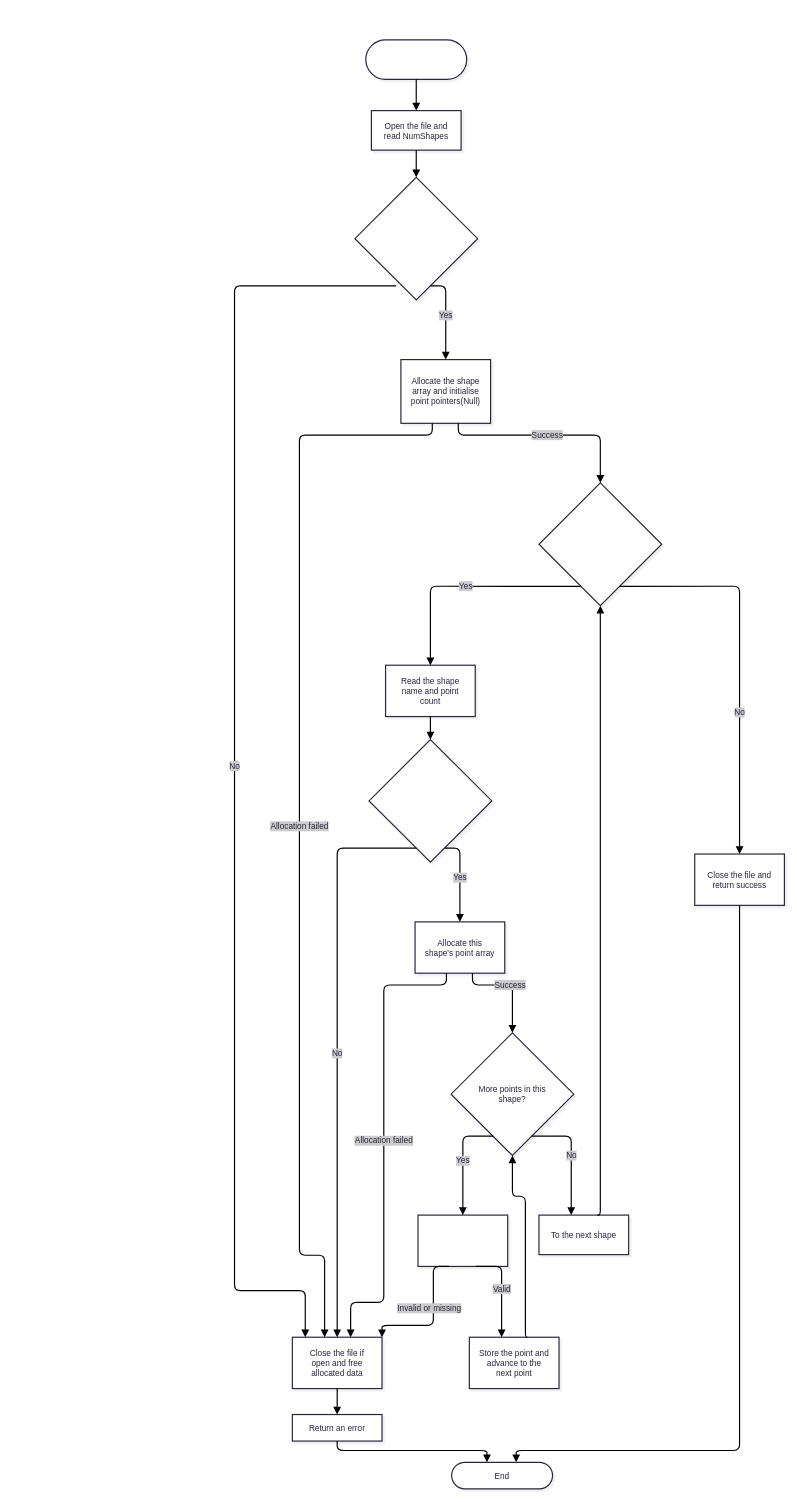
This 797x1502 diagram has some shape labels left out. The shapes that lost their labels are listed below. From the top down, each one's centre as x and y in pixels, then its label:
At (417,60): "Start load_shapes()".
At (417,239): "File opened and header valid?".
At (601,545): "More shapes to read?".
At (431,802): "Shape header valid?".
At (463,1241): "Read and validate one X, Y, P record".
